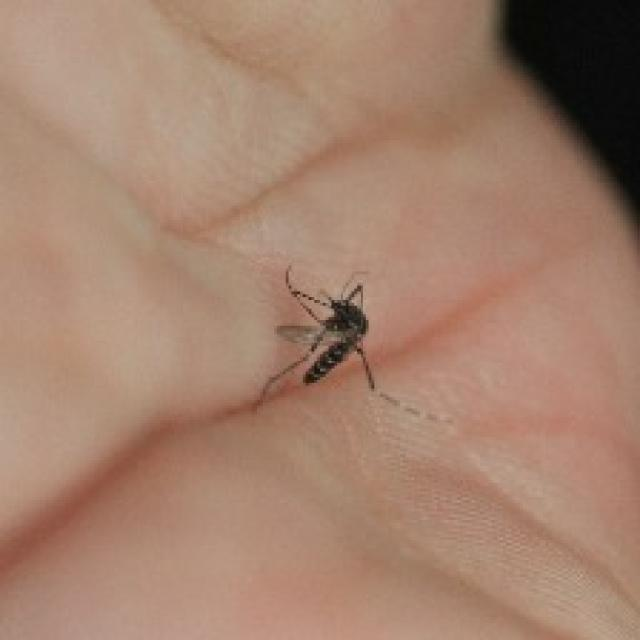aedes: (260, 260, 377, 400)
